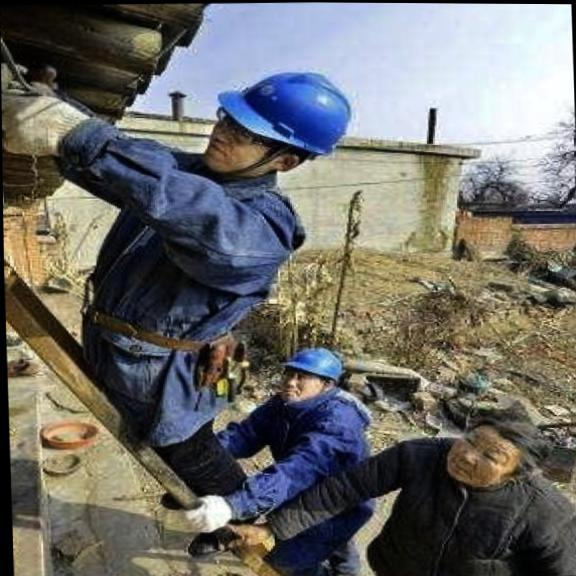no_safety_vest: (69, 154, 320, 344), (362, 473, 576, 576), (245, 391, 380, 525)
